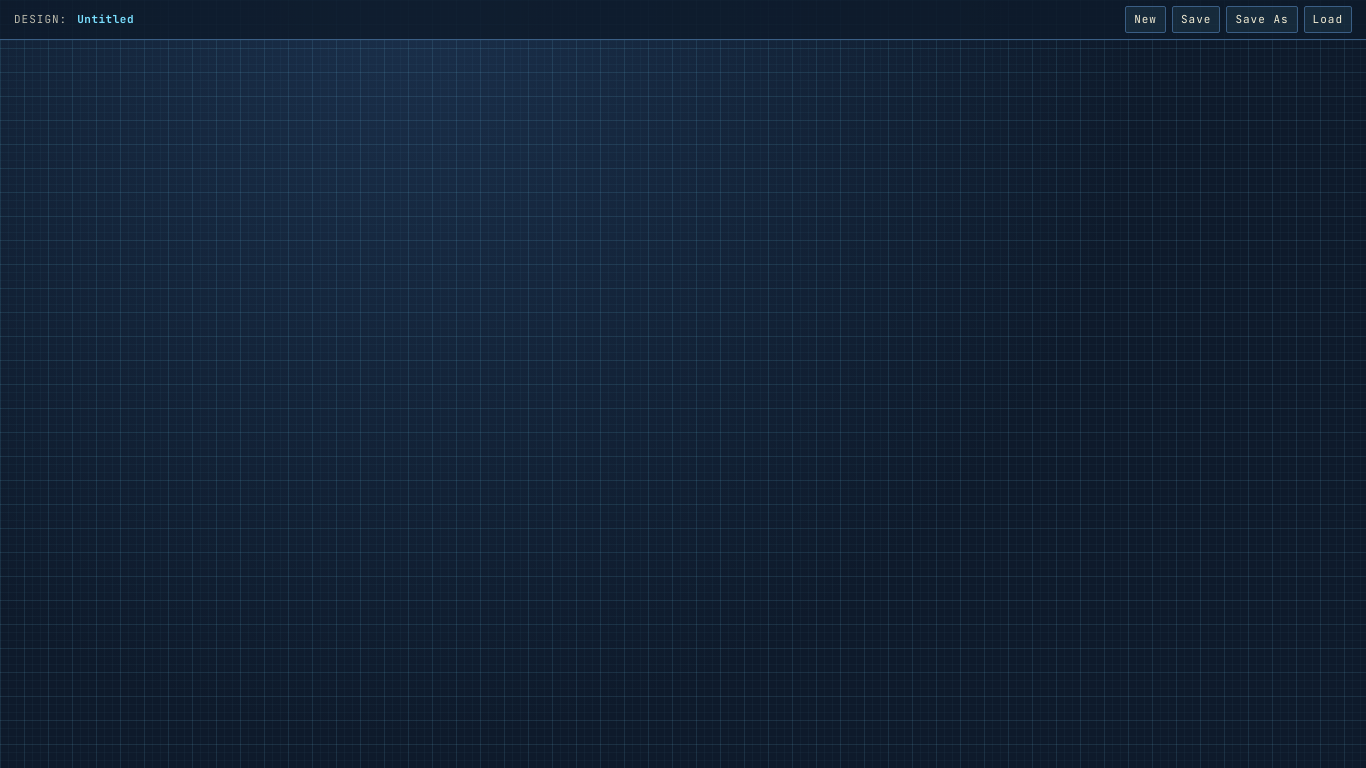
Test: SaveLoadBar › shows empty state when no saved designs in load dialog
Click the button "Load": (1328,19) [1304,6,1352,32]
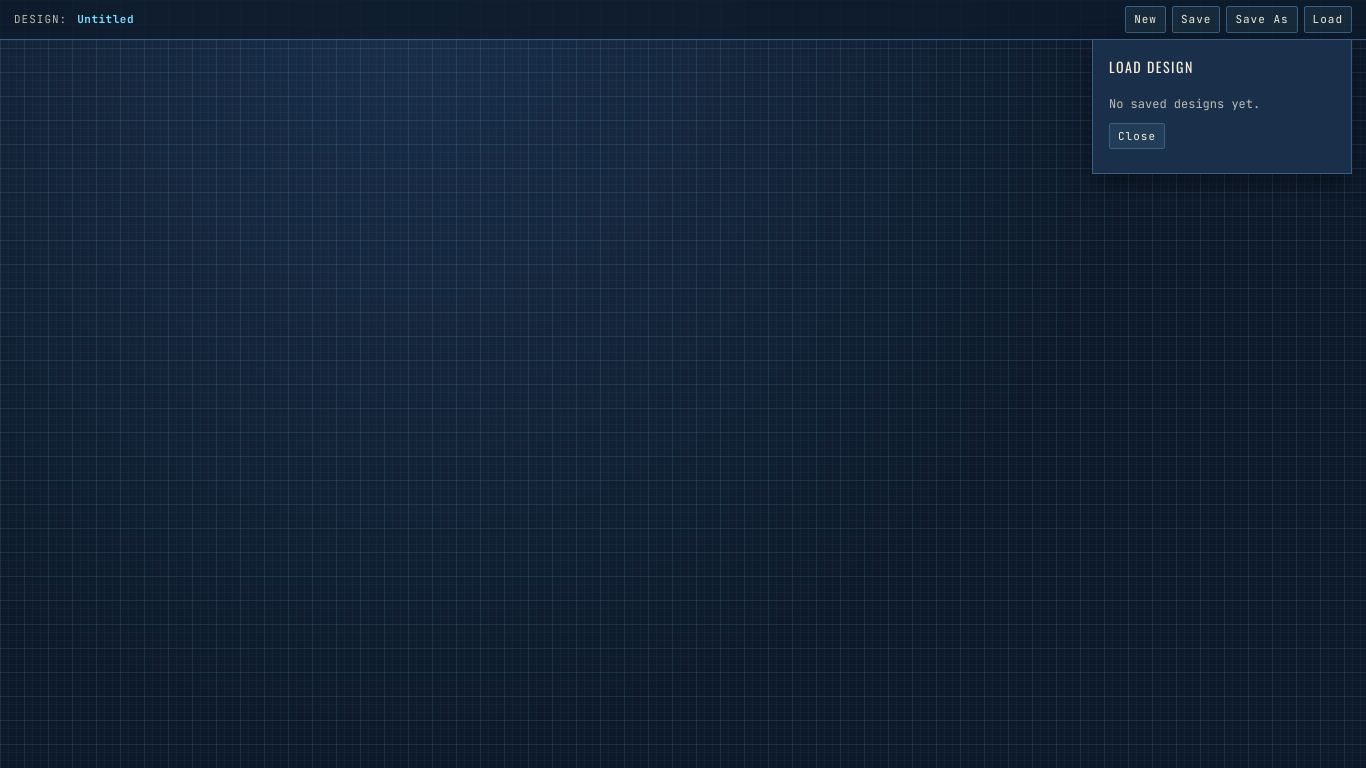
Check: the text "No saved designs yet." is shown, box [1109,96,1260,112]
